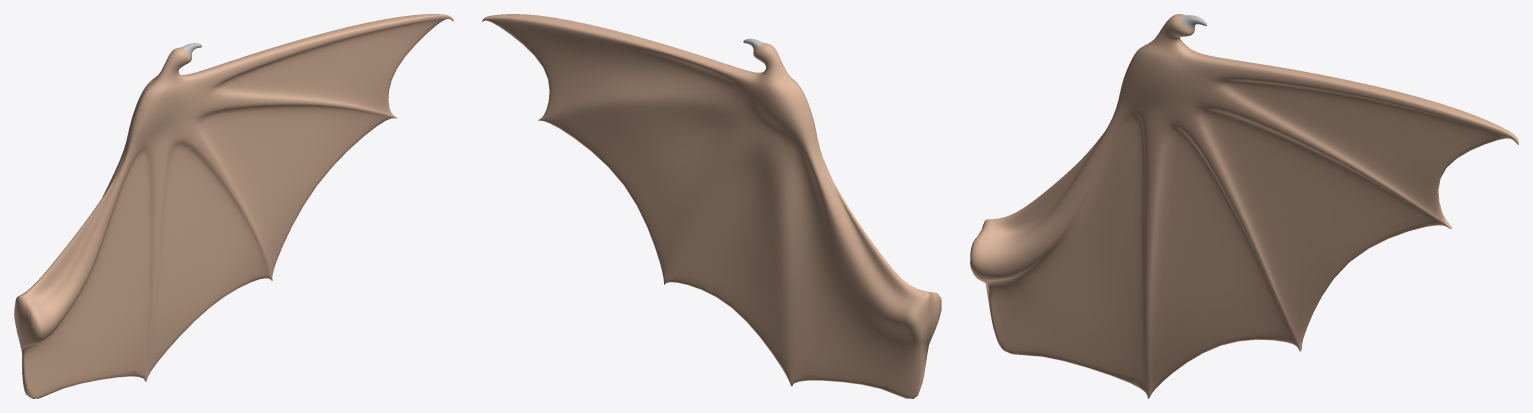
Rendered from bat_wing.fbx.
3 renders of one model, left to right at view 1: azimuth 30°, elevation 25°; view 2: azimuth 150°, elevation 25°; view 3: azimuth 330°, elevation 25°, orthographic. The views are drawn at different scales.
Parts seen in each view (by area): view 1: Body; view 2: Body; view 3: Body.
Boxes of the visible parts, x1,y1,x2,y2 form: Body: (14, 14, 453, 398); Body: (482, 14, 941, 398); Body: (970, 14, 1518, 398).
Size of the model in its own units: 1727 by 1241 by 184.
